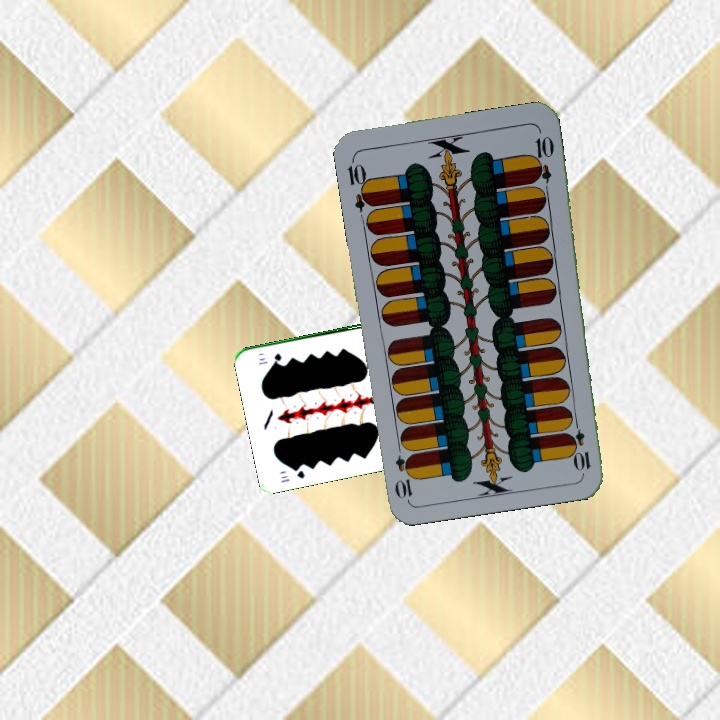E10: (343, 154, 376, 213), (568, 414, 594, 473)
G10: (277, 463, 307, 485)
